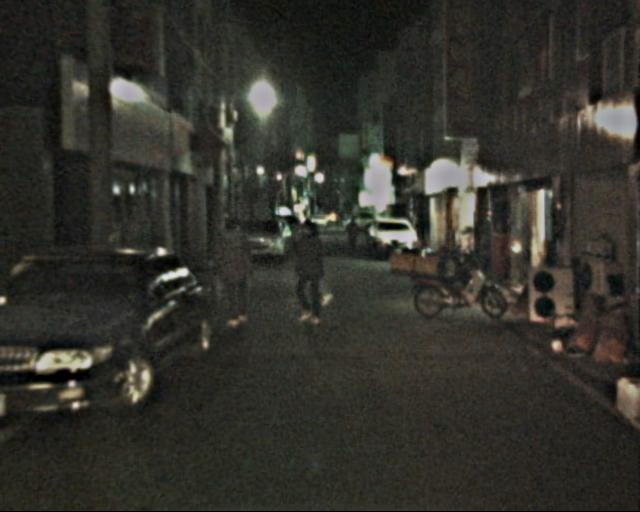person: (211, 217, 257, 330), (289, 221, 331, 324), (346, 217, 361, 252)
